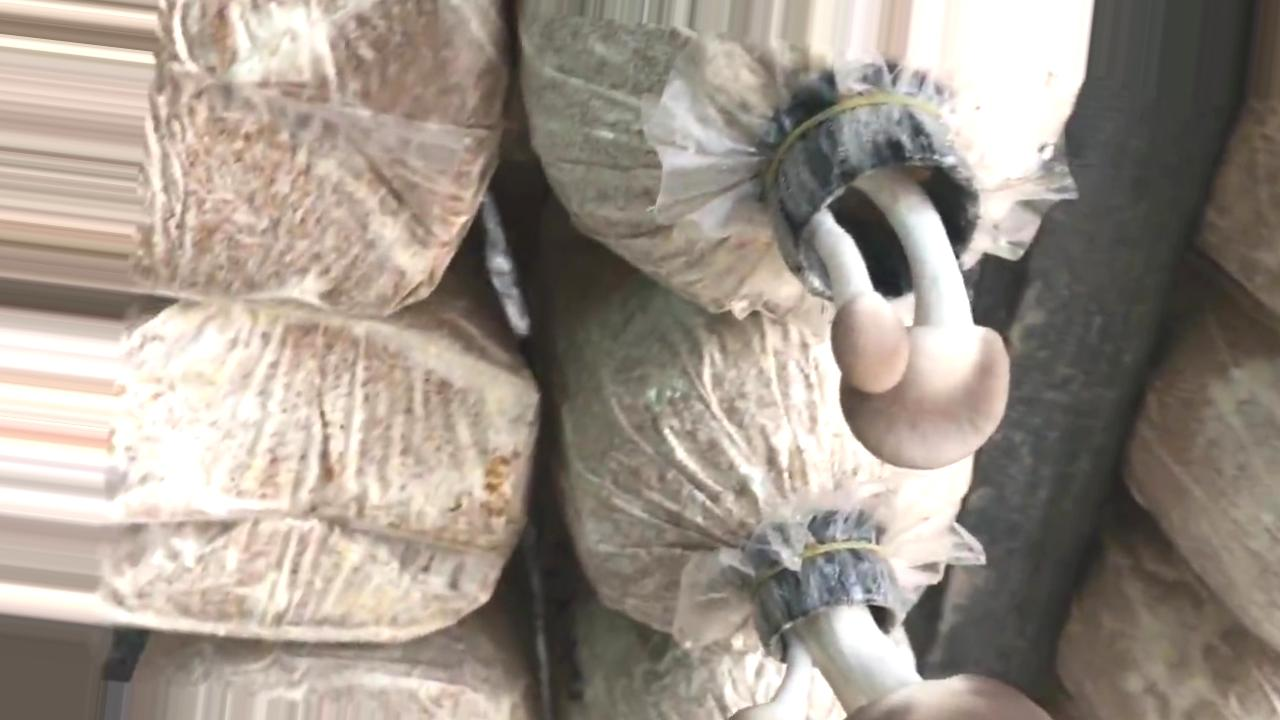nam: (780, 99, 1008, 467), (733, 548, 1046, 720)
